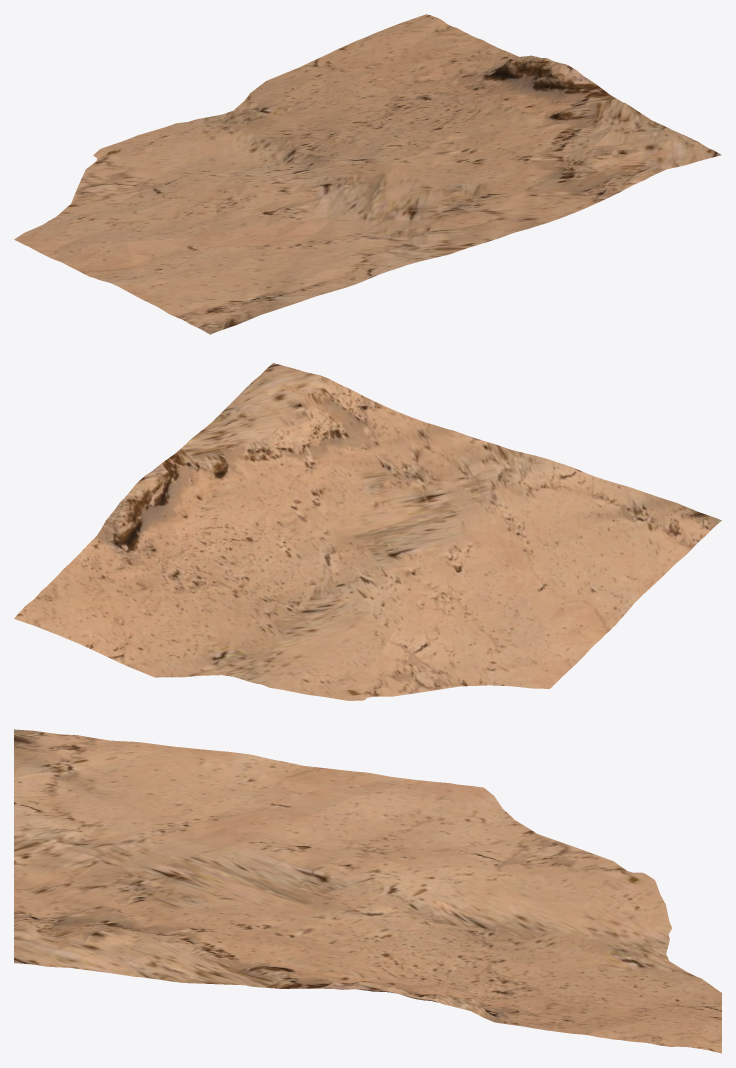
3 views of the same model, one above another, from view 1: azimuth 30°, elevation 25°; view 2: azimuth 150°, elevation 25°; view 3: azimuth 270°, elevation 25° (orthographic). The views are drawn at different scales.
Bounding box in the file's own units: 4.18 × 0.8051 × 4.18.
2 materials, 2 textured.
